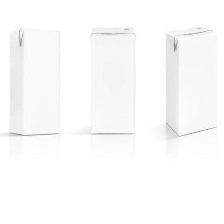carton: (162, 20, 220, 136), (6, 27, 65, 140), (85, 22, 139, 138)
